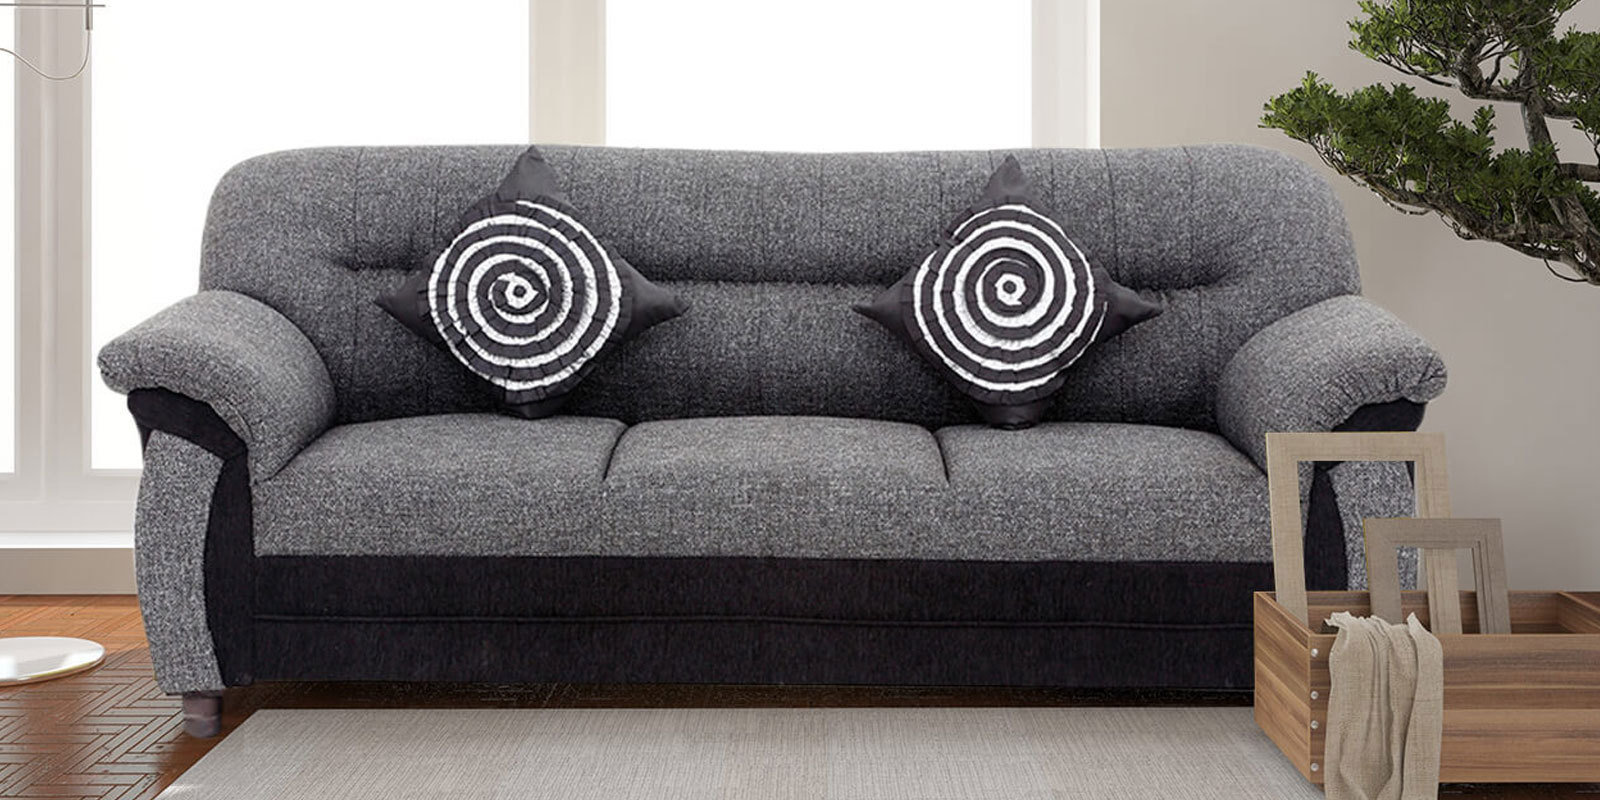Northwest Three Seater Sofa by Looking Good Furniture: (98, 141, 1448, 737)
